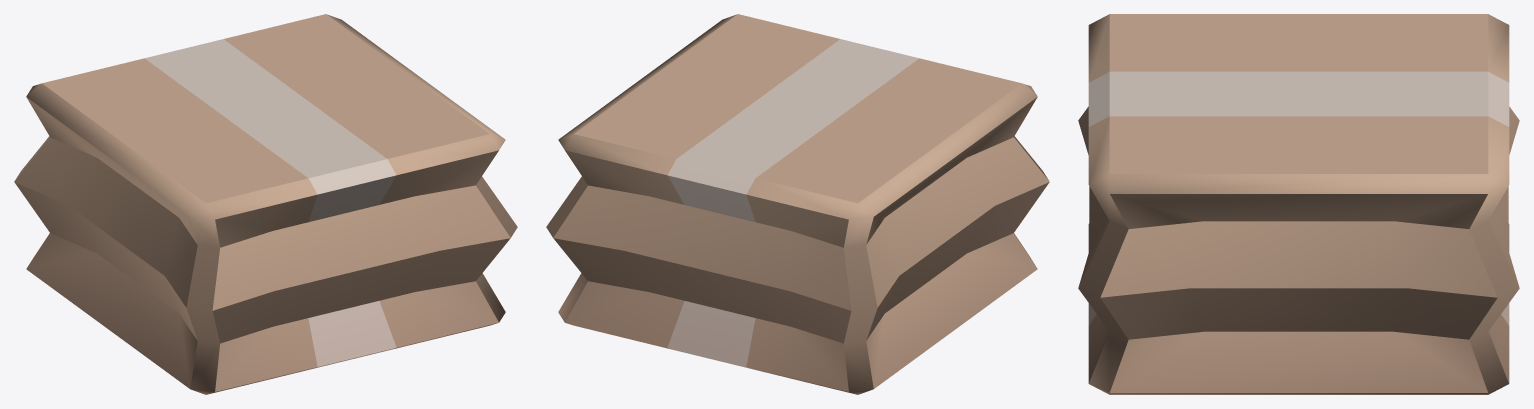
The model's file is cardboard-box-crushed (%secret).glb.
The picture shows the model from 3 angles, left to right: view 1: azimuth 30°, elevation 25°; view 2: azimuth 150°, elevation 25°; view 3: azimuth 270°, elevation 25°; orthographic projection. The views are drawn at different scales.
Visible parts, largest first — view 1: cardboard-box-crushed (%secret); view 2: cardboard-box-crushed (%secret); view 3: cardboard-box-crushed (%secret).
Part boxes in pixels (bbox=[...]): cardboard-box-crushed (%secret): bbox=[14, 14, 517, 394]; cardboard-box-crushed (%secret): bbox=[546, 14, 1049, 394]; cardboard-box-crushed (%secret): bbox=[1078, 14, 1519, 394].
Bounding box in the file's own units: 0.3937 × 0.2175 × 0.3937.
